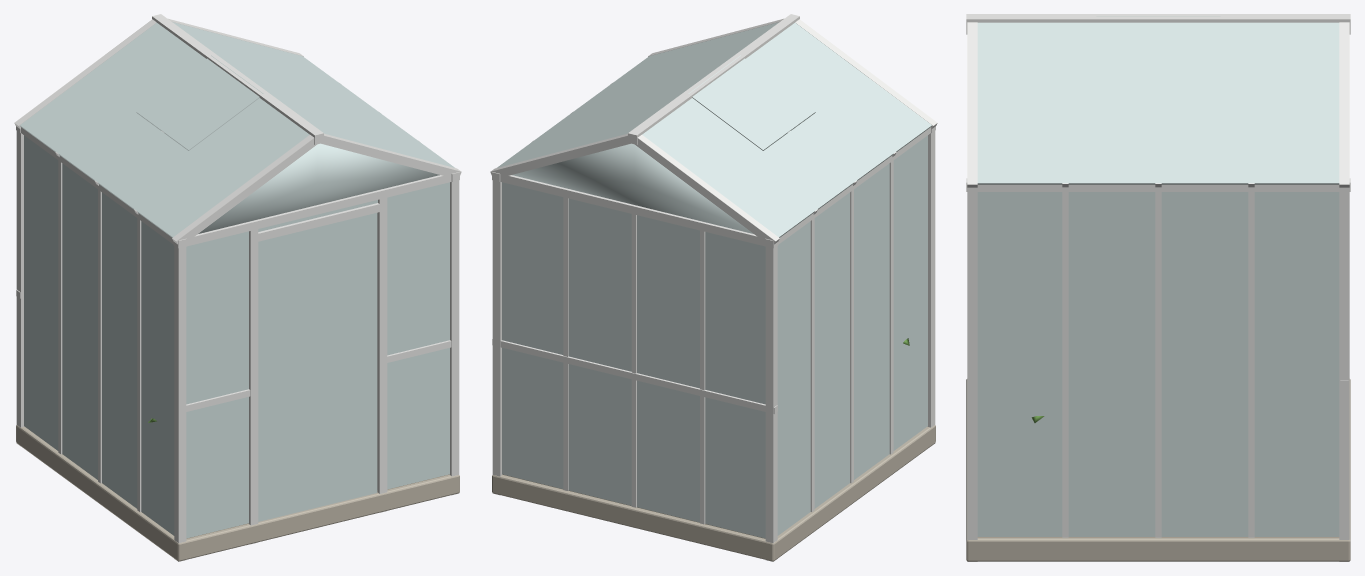
File: glasshouse.glb
3 views of the same model, side by side, from view 1: azimuth 30°, elevation 25°; view 2: azimuth 150°, elevation 25°; view 3: azimuth 270°, elevation 25° (orthographic). The views are drawn at different scales.
Parts seen in each view (by area): view 1: body, door, vent; view 2: body, vent; view 3: body.
Boxes of the visible parts, x1,y1,x2,y2 form: body: (14, 14, 461, 561); door: (258, 213, 377, 521); vent: (136, 55, 263, 150); body: (490, 14, 937, 561); vent: (688, 55, 815, 150); body: (966, 14, 1350, 561).
Bounding box in the file's own units: 1.89 × 2.48 × 1.86.
